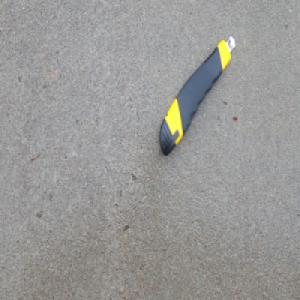Cutter: (156, 33, 235, 156)
